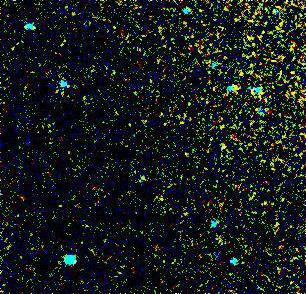star: (226, 57, 256, 87)
